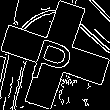P_N: (29, 25, 81, 85)
